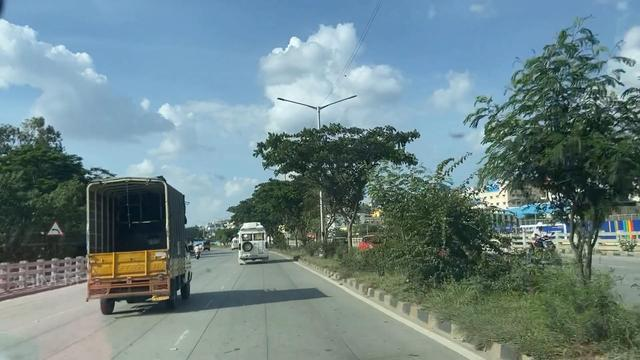HMV: (81, 167, 194, 316), (232, 210, 270, 265)
